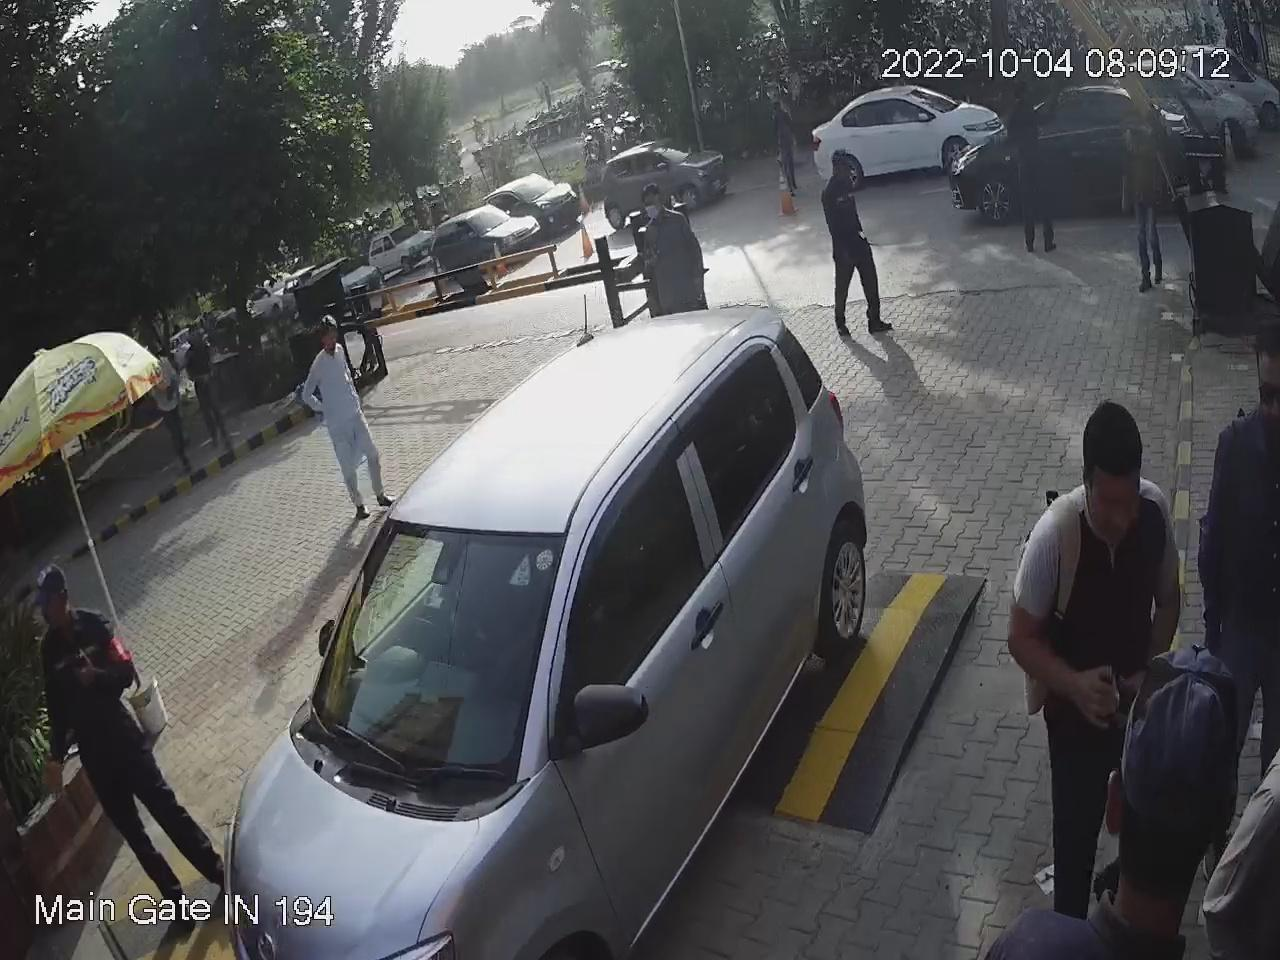windshield: (283, 507, 572, 795)
